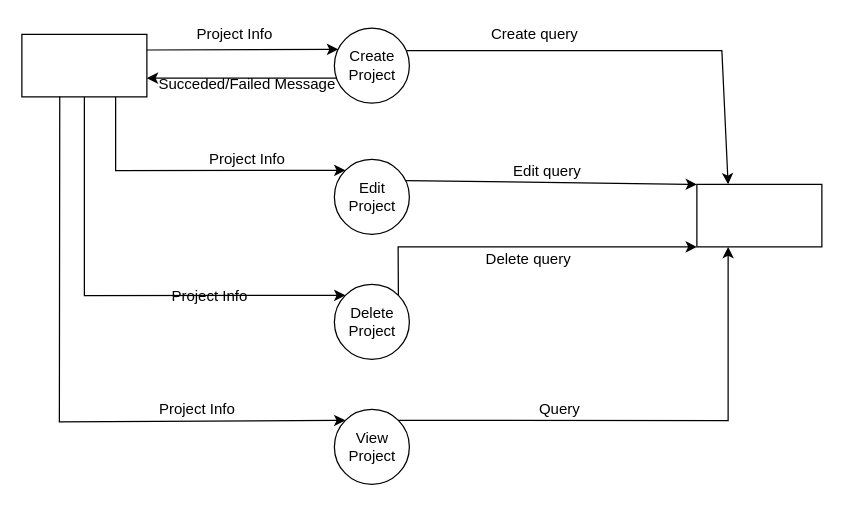
The diagram is 844 pixels wide and 506 high, and some of its shapes have lost their labels. The centre of each missing label's shape, as x and y in pixels:
"Database" goes at (759,215).
"Project Leader" goes at (84,65).
